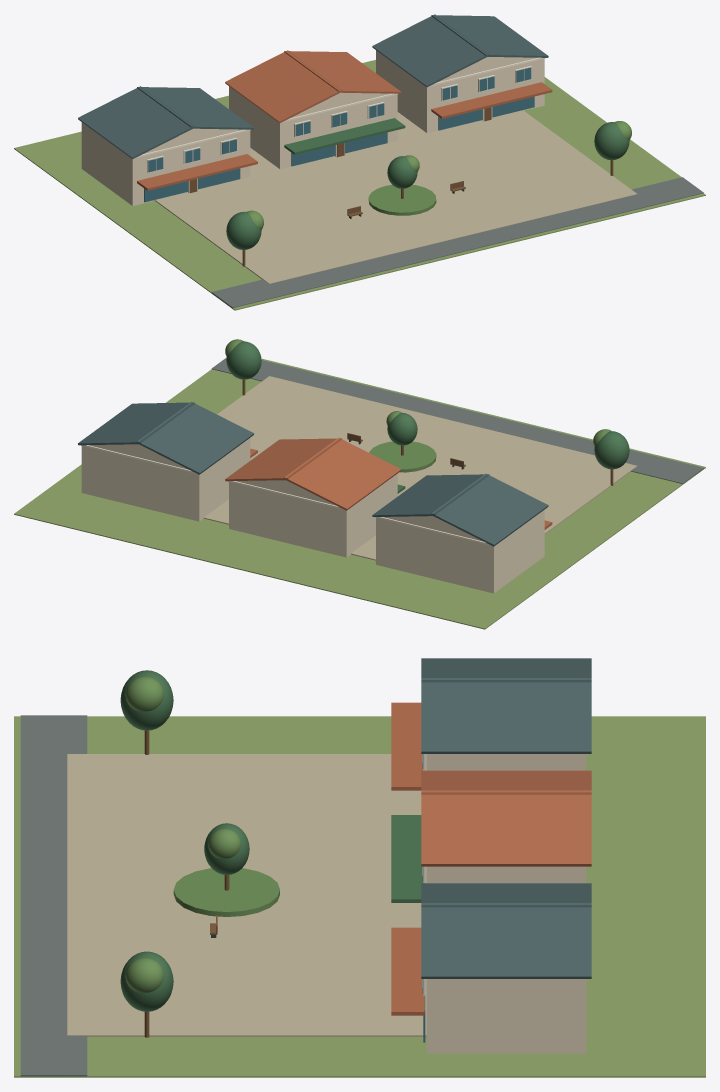
The model's file is village-center.glb.
3 renders of one model, top to bottom at view 1: azimuth 30°, elevation 25°; view 2: azimuth 150°, elevation 25°; view 3: azimuth 270°, elevation 25°, orthographic. The views are drawn at different scales.
Parts seen in each view (by area): view 1: village-center; view 2: village-center; view 3: village-center.
Part boxes in pixels (x1,y1,x2,y2): village-center: (14,14,705,310); village-center: (14,339,705,629); village-center: (14,658,705,1077).
Size of the model in its own units: 64 by 8.78 by 52.
